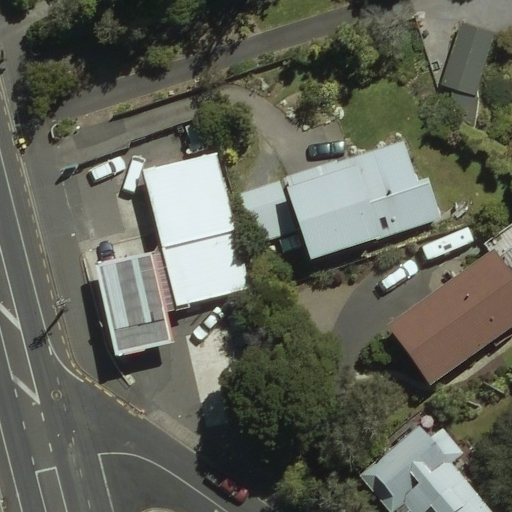DT: (46, 290, 76, 321)
